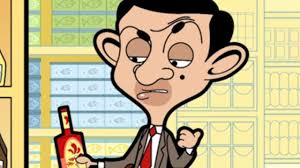mrbean: (76, 1, 250, 168)
